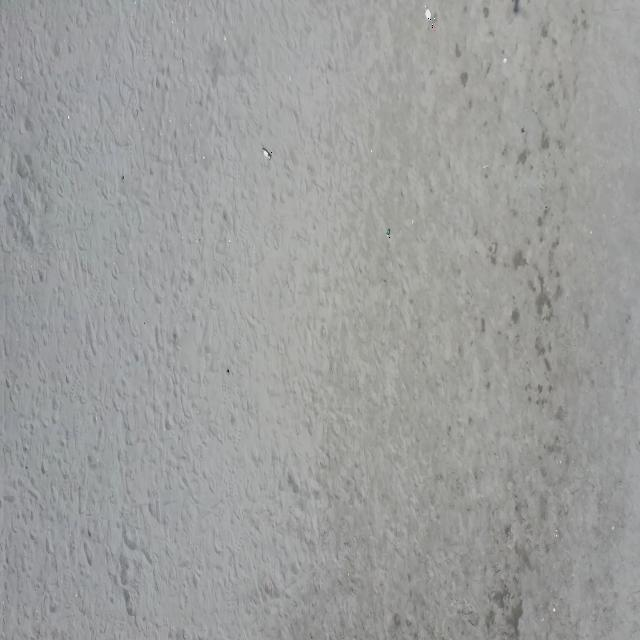glass: (422, 6, 434, 32), (261, 147, 272, 160), (386, 229, 390, 238)
